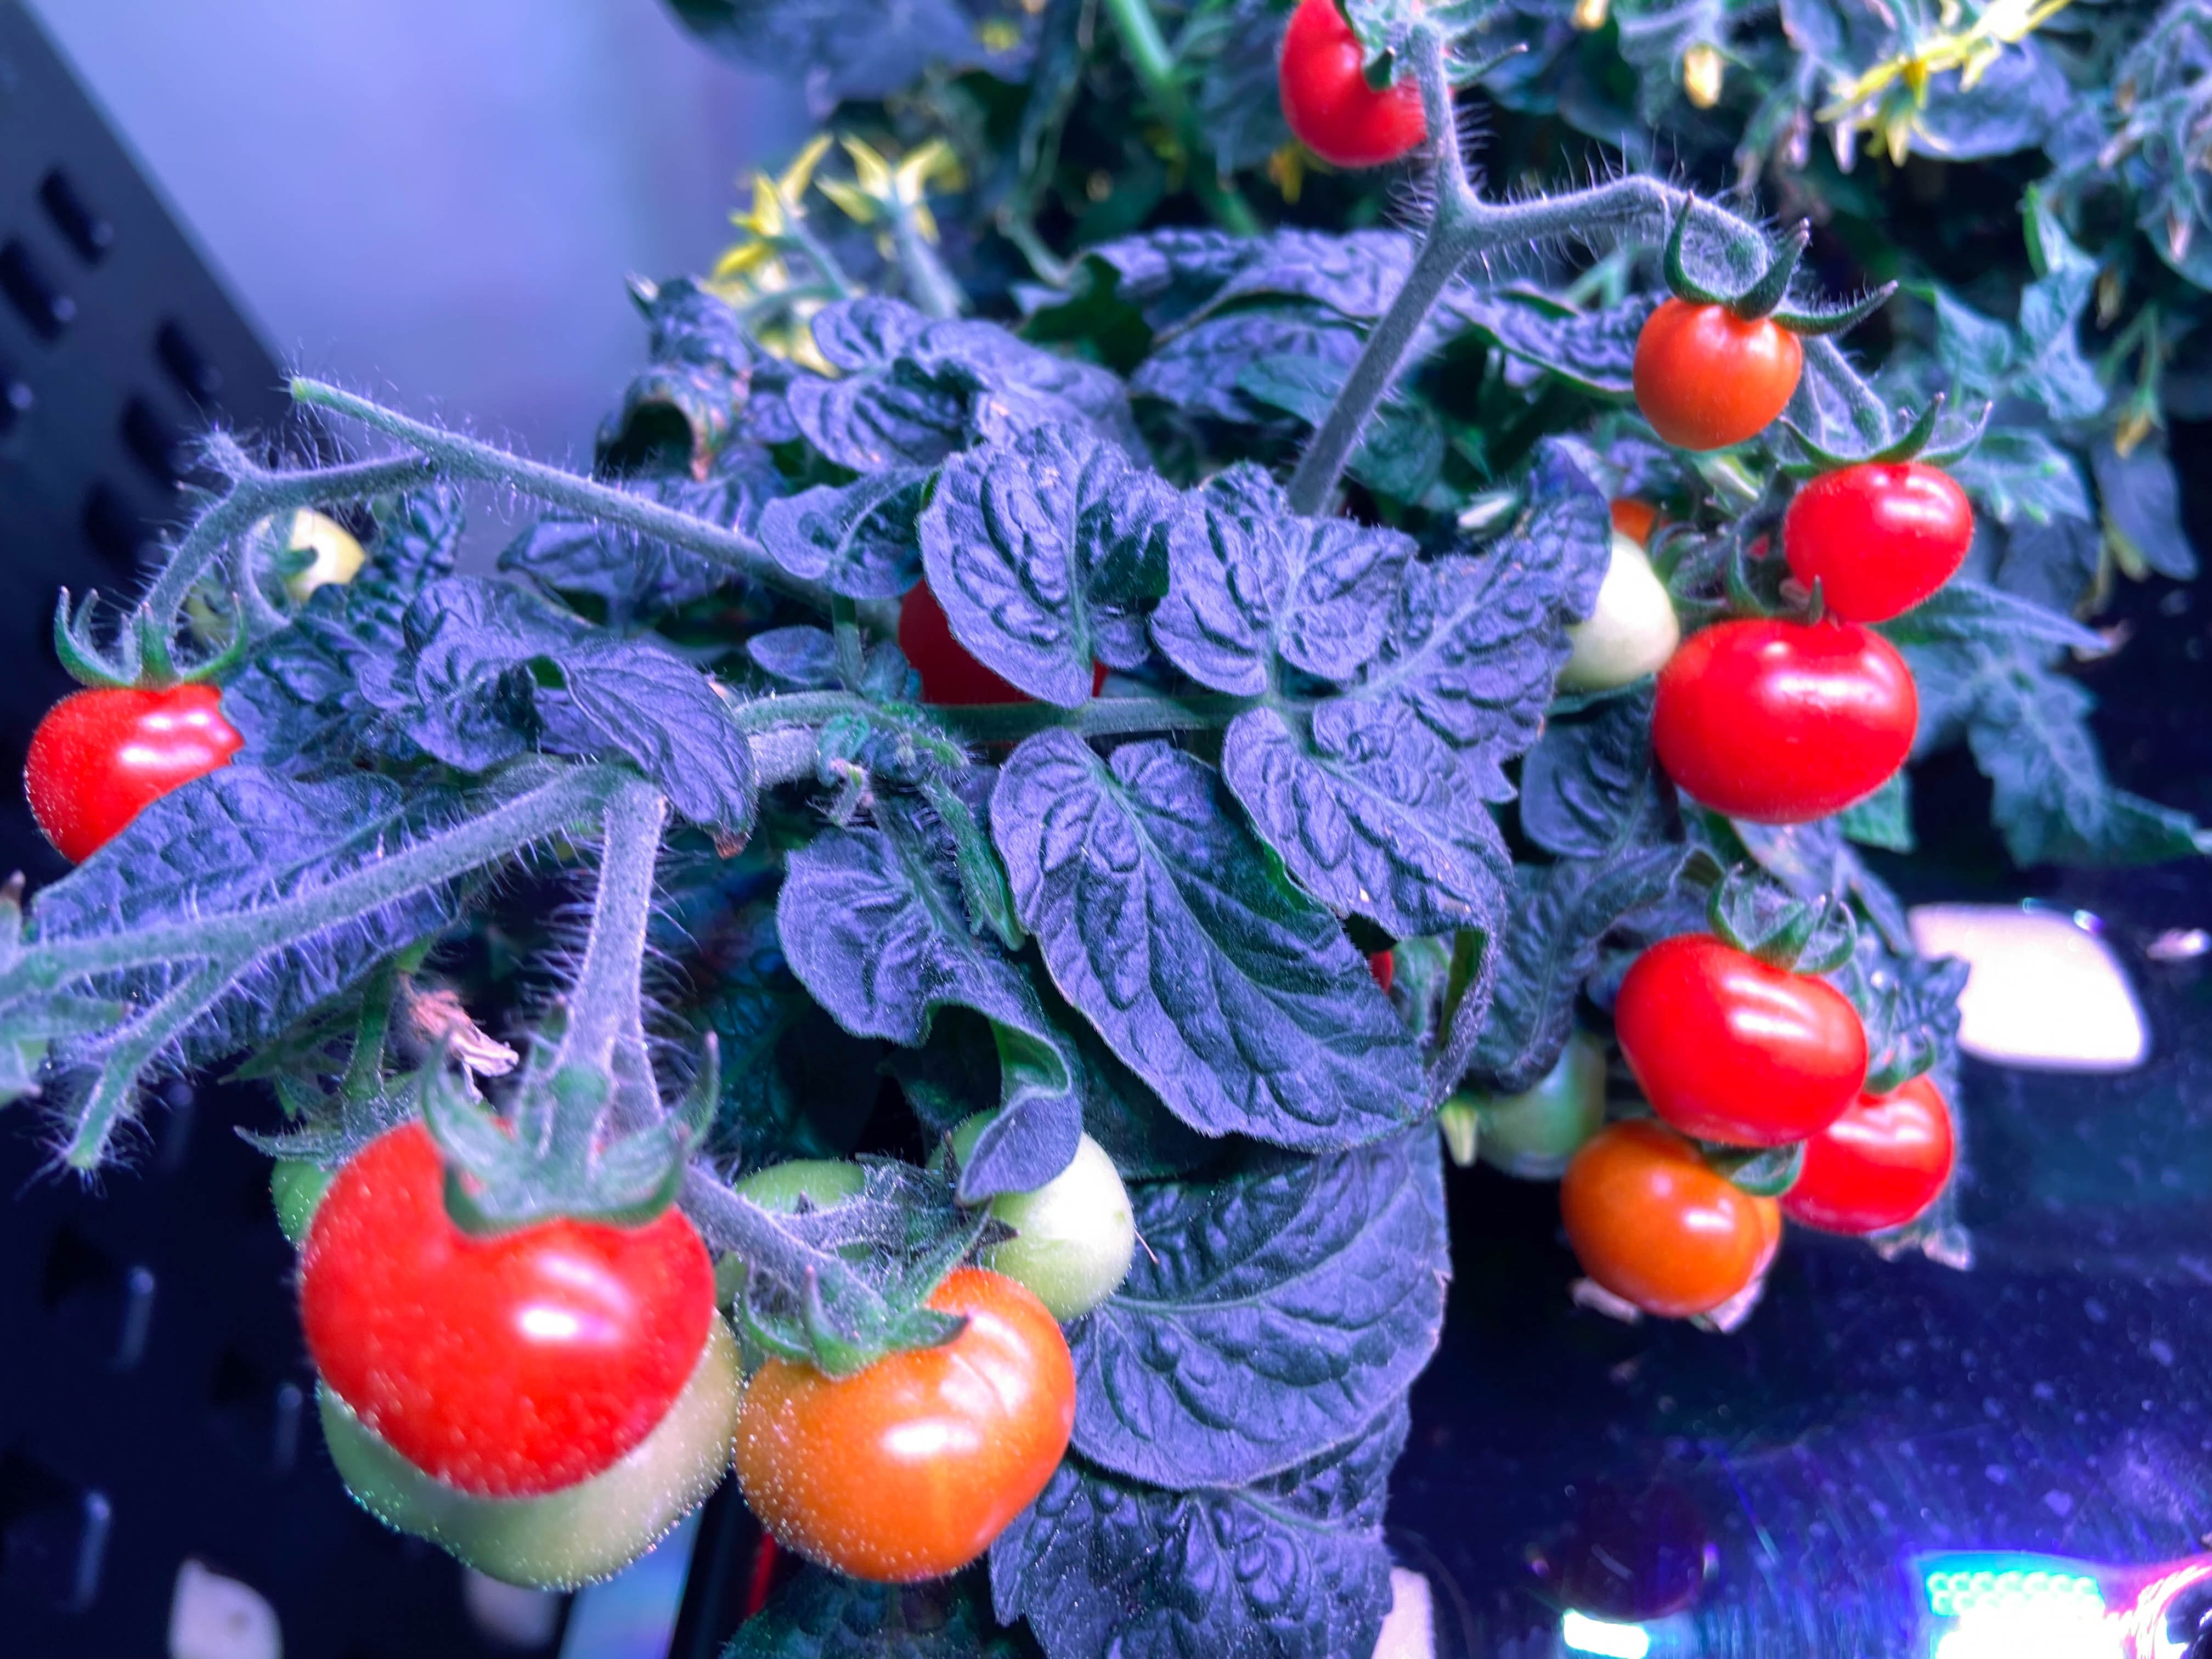green: (921, 1107, 1141, 1328), (705, 1157, 890, 1335), (1538, 521, 1679, 692), (1474, 1023, 1609, 1173)
red: (294, 1105, 721, 1488), (730, 1265, 1080, 1584), (1651, 606, 1918, 824), (21, 671, 272, 885), (1615, 932, 1860, 1141), (1555, 1117, 1775, 1317), (1782, 450, 1970, 619), (172, 504, 368, 653), (1632, 286, 1803, 451), (1277, 0, 1439, 171), (1782, 1070, 1951, 1227), (897, 563, 1021, 711), (1968, 0, 2059, 40)
